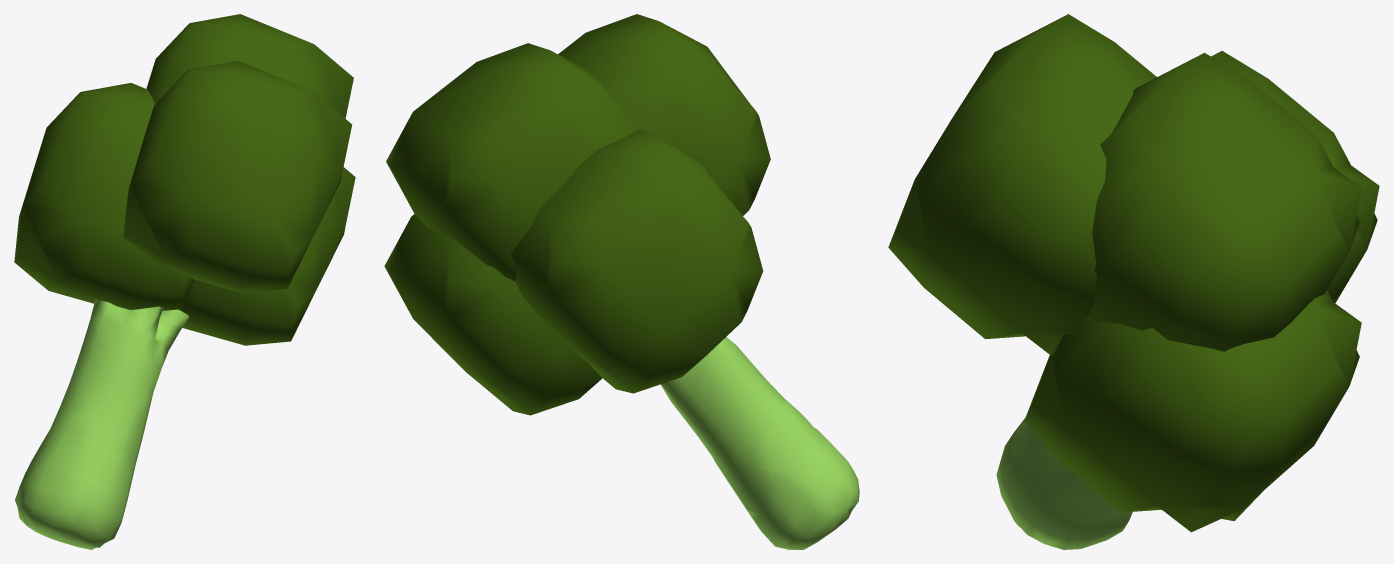
The model's file is broccoli.glb.
3 renders of one model, left to right at view 1: azimuth 30°, elevation 25°; view 2: azimuth 150°, elevation 25°; view 3: azimuth 270°, elevation 25°, orthographic. The views are drawn at different scales.
Parts seen in each view (by area): view 1: Cube.004; view 2: Cube.004; view 3: Cube.004.
Part boxes in pixels (x1,y1,x2,y2): Cube.004: (14,14,355,549); Cube.004: (384,14,859,549); Cube.004: (888,14,1379,549).
Size of the model in its own units: 1.72 by 1.96 by 1.44.
